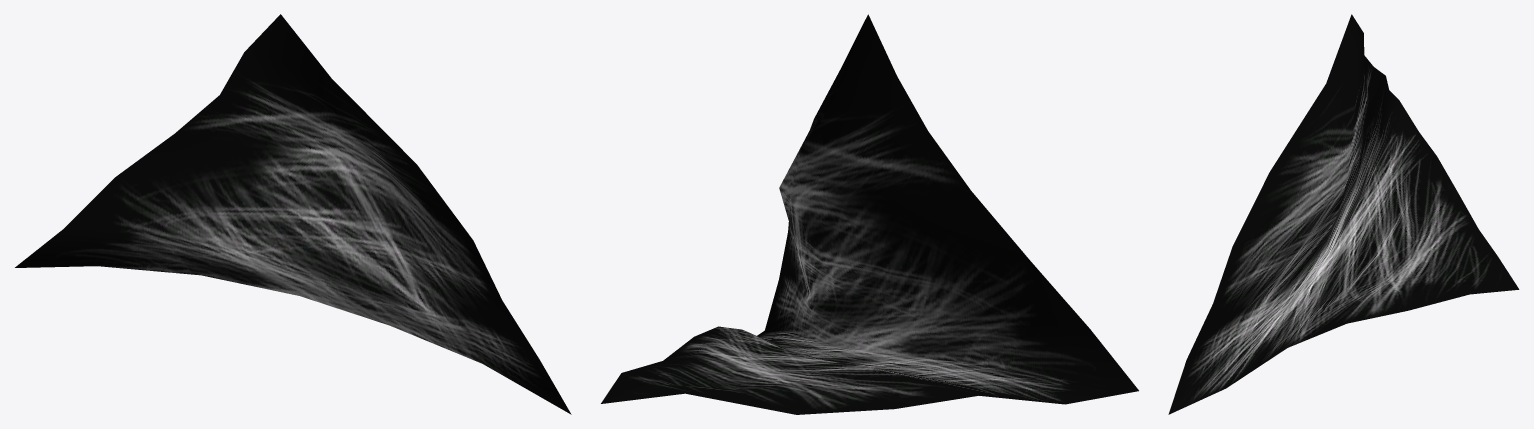
The model's file is SWORDLIGHT20_PS-AREA01_CORNERWEB14.fbx.
3 renders of one model, left to right at view 1: azimuth 30°, elevation 25°; view 2: azimuth 150°, elevation 25°; view 3: azimuth 270°, elevation 25°, orthographic. The views are drawn at different scales.
Visible parts, largest first — view 1: SWORDLIGHT20_PS-AREA01_CORNERWEB14; view 2: SWORDLIGHT20_PS-AREA01_CORNERWEB14; view 3: SWORDLIGHT20_PS-AREA01_CORNERWEB14.
Part boxes in pixels (x1,y1,x2,y2): SWORDLIGHT20_PS-AREA01_CORNERWEB14: (15,14,571,414); SWORDLIGHT20_PS-AREA01_CORNERWEB14: (601,14,1138,414); SWORDLIGHT20_PS-AREA01_CORNERWEB14: (1168,14,1519,414).
Size of the model in its own units: 94275 by 78297 by 77413.
1 material, 1 textured.
